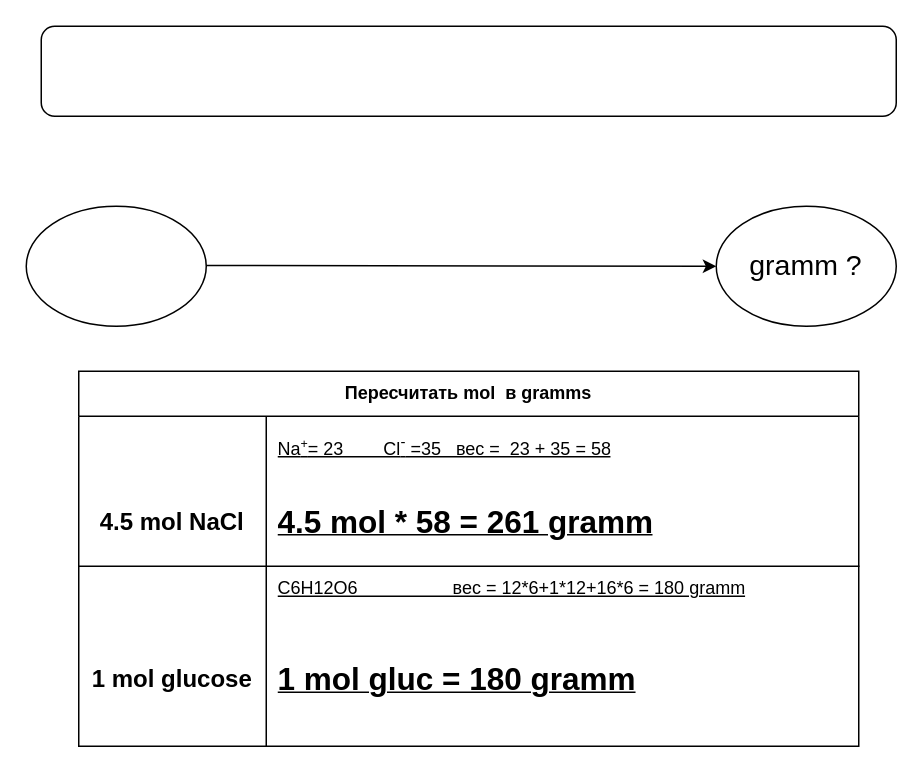
This 923x773 diagram has some shape labels left out. The shapes that lost their labels are listed below. From the top down, each one's centre as x and y in pixels, then its label:
At pixel 468 70: "1 mol = 6.02 * 10 23 число Авагадро".
At pixel 115 265: "1 mol".
